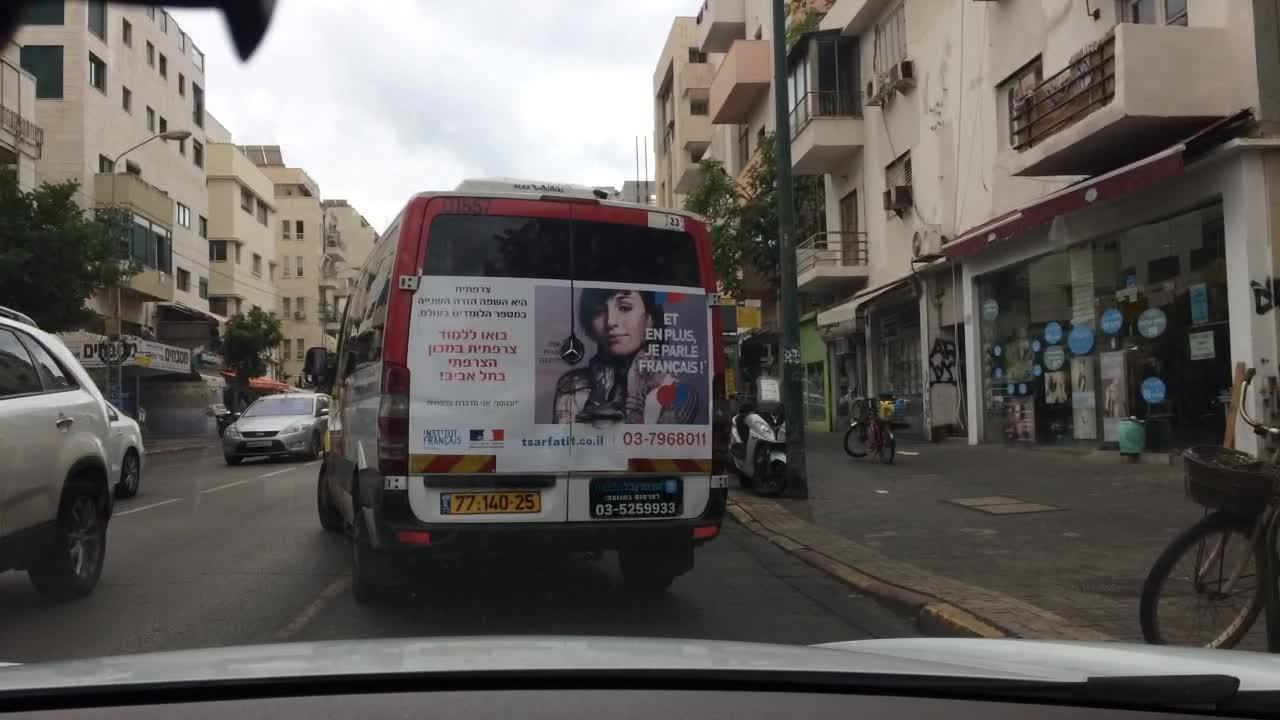Mercedes: (557, 337, 592, 370)
